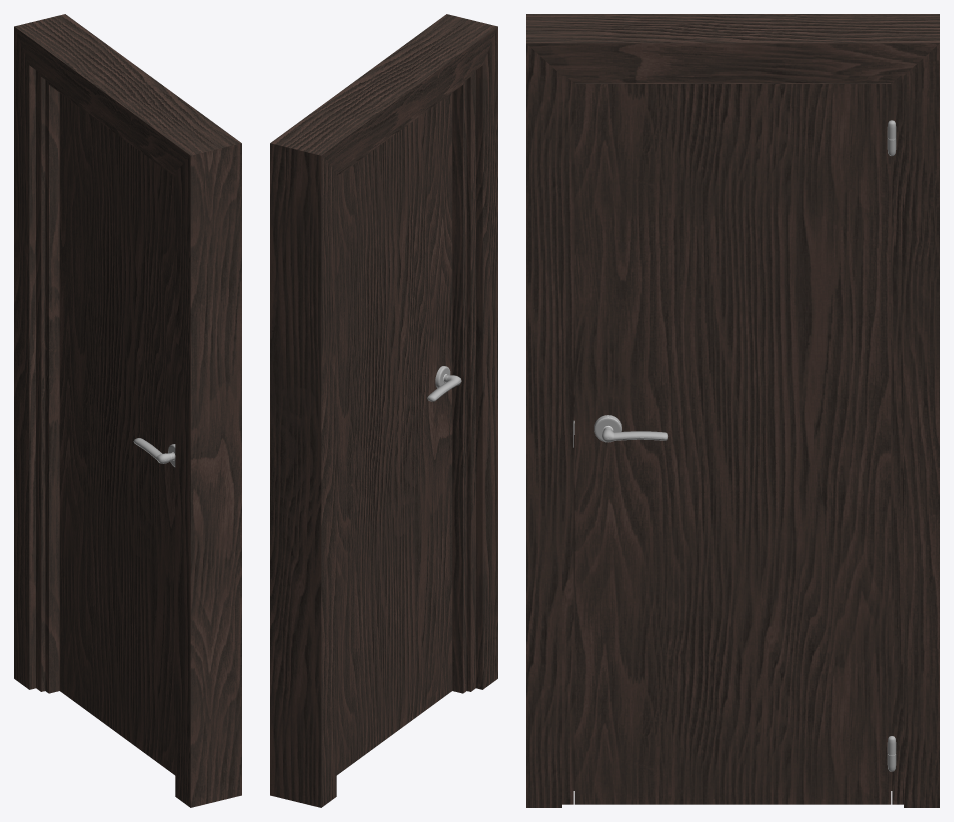
Rendered from door 2 closed.glb.
3 renders of one model, left to right at view 1: azimuth 30°, elevation 25°; view 2: azimuth 150°, elevation 25°; view 3: azimuth 270°, elevation 25°, orthographic. The views are drawn at different scales.
Visible parts, largest first — view 1: D1-Frame, D1-Door; view 2: D1-Frame, D1-Door; view 3: D1-Door, D1-Frame.
Part boxes in pixels (bbox=[...]): D1-Frame: bbox=[14, 14, 241, 807]; D1-Door: bbox=[59, 93, 175, 775]; D1-Frame: bbox=[270, 14, 497, 807]; D1-Door: bbox=[336, 93, 461, 775]; D1-Door: bbox=[574, 83, 896, 804]; D1-Frame: bbox=[526, 14, 939, 807].
Bounding box in the file's own units: 0.561 × 5.3 × 2.6.
Materials: 1 (1 with a texture image).
